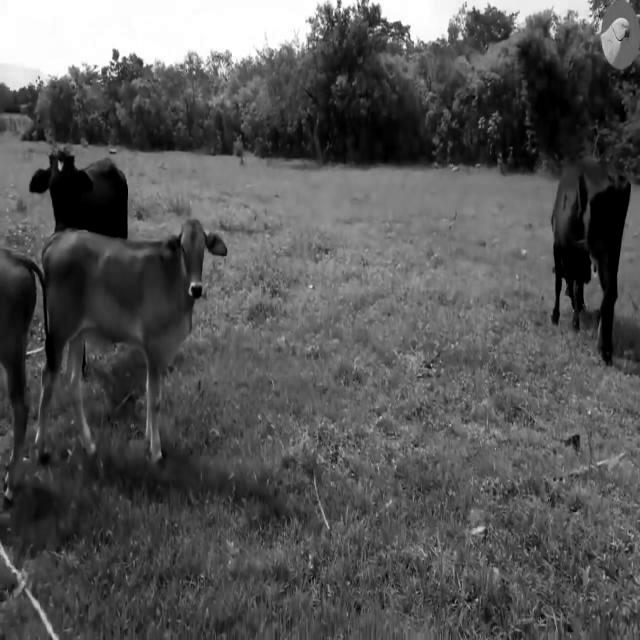COW: (38, 219, 226, 462), (551, 160, 630, 364), (30, 151, 128, 238)
